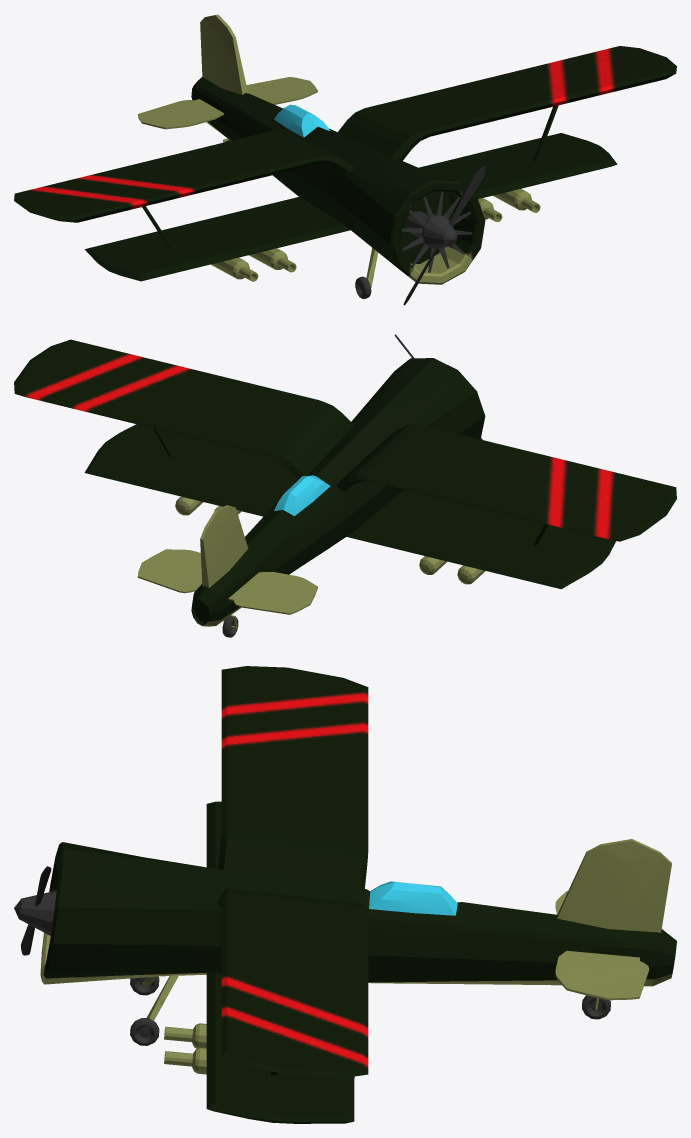
The picture shows the model from 3 angles, top to bottom: view 1: azimuth 30°, elevation 25°; view 2: azimuth 150°, elevation 25°; view 3: azimuth 270°, elevation 25°; orthographic projection. The views are drawn at different scales.
Visible parts, largest first — view 1: Plane3, Motor; view 2: Plane3; view 3: Plane3, Motor.
Boxes of the visible parts, x1=… form: Plane3: x1=14, y1=14, x2=676, y2=298; Motor: x1=401, y1=166, x2=485, y2=305; Plane3: x1=14, y1=339, x2=676, y2=637; Plane3: x1=40, y1=666, x2=676, y2=1123; Motor: x1=14, y1=866, x2=56, y2=955.
Size of the model in its own units: 667 by 139 by 459.
1 material, 1 textured.
